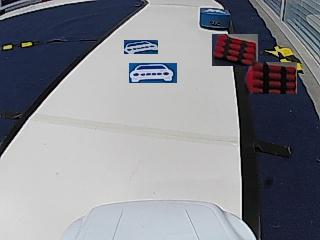prop: (200, 8, 230, 30)
